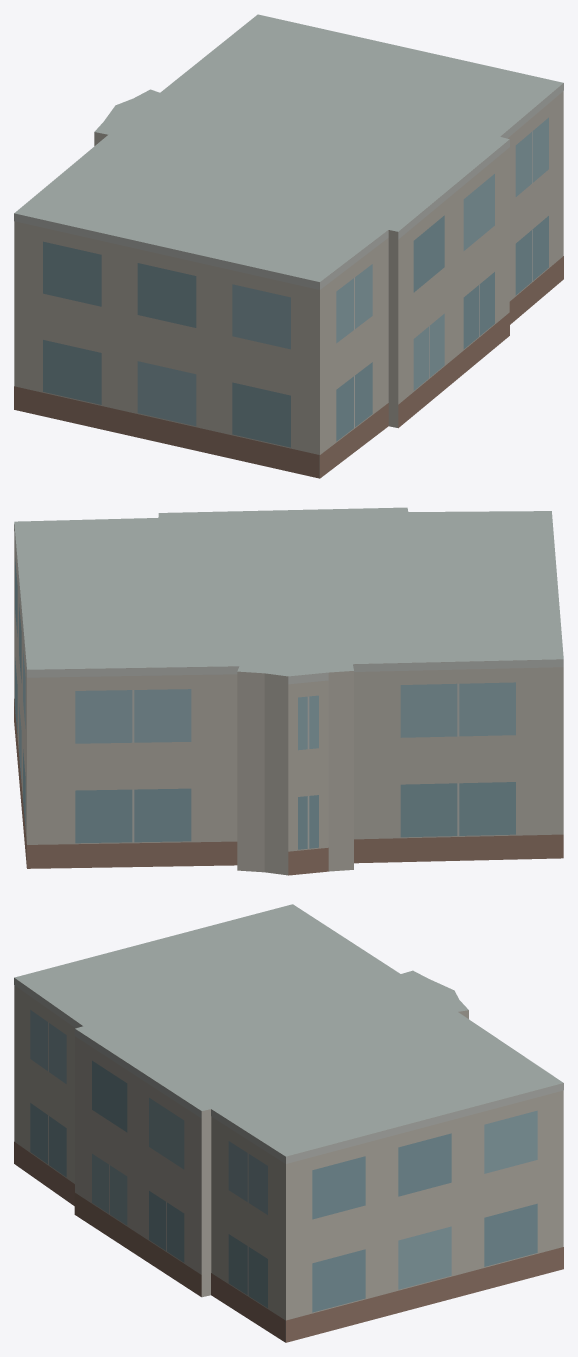
Rendered from survey-upis-32624871.glb.
3 views of the same model, one above another, from view 1: azimuth 30°, elevation 25°; view 2: azimuth 150°, elevation 25°; view 3: azimuth 270°, elevation 25° (orthographic). The views are drawn at different scales.
Visible parts, largest first — view 1: survey-upis-32624871.tmp; view 2: survey-upis-32624871.tmp; view 3: survey-upis-32624871.tmp.
Part boxes in pixels (x1=…): survey-upis-32624871.tmp: x1=14, y1=14, x2=563, y2=478; survey-upis-32624871.tmp: x1=14, y1=507, x2=563, y2=875; survey-upis-32624871.tmp: x1=14, y1=904, x2=563, y2=1342.
Bounding box in the file's own units: 17.76 × 6.1 × 16.34.
